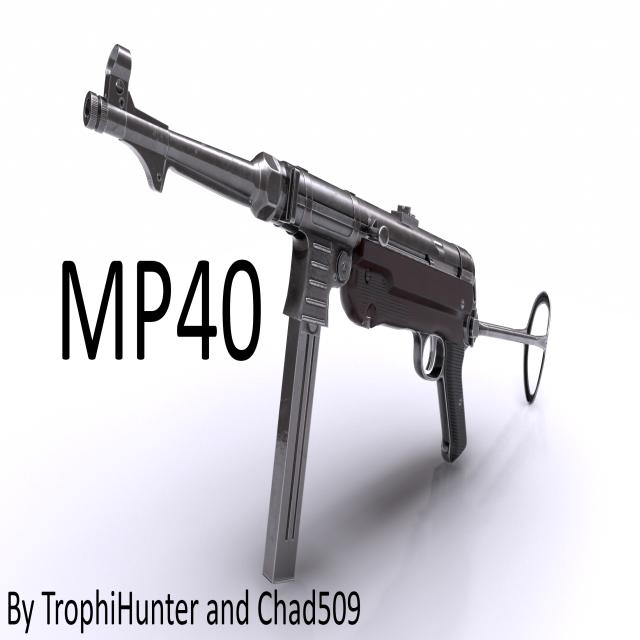SMG: (81, 45, 550, 584)
